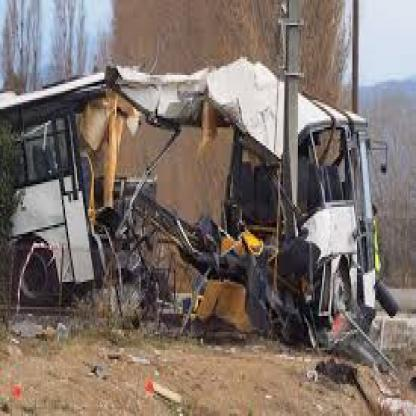accident: (25, 60, 401, 376)
